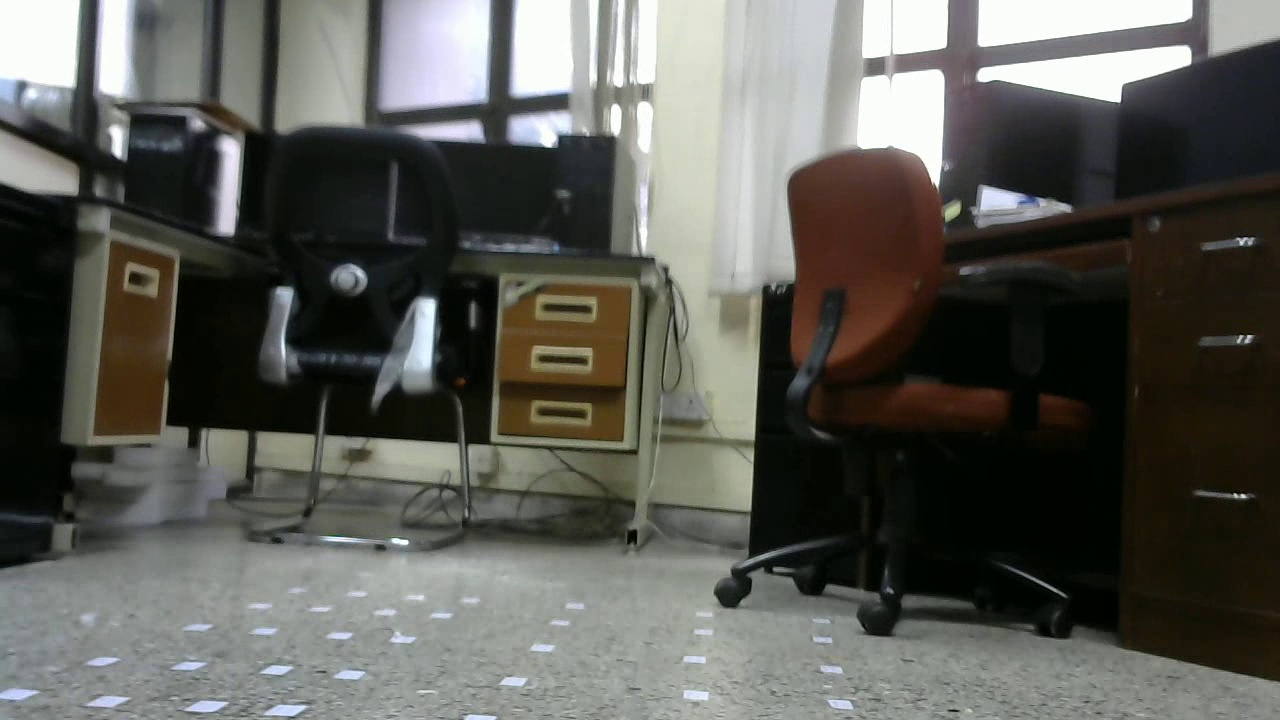chair: (712, 148, 1088, 643), (237, 121, 478, 562)
